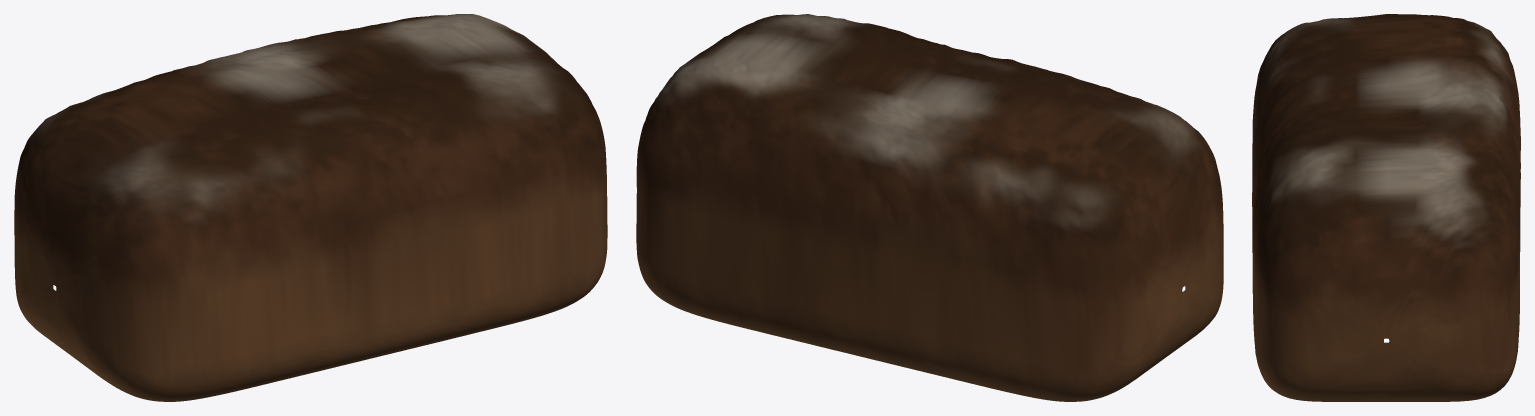
Rendered from schwabenkorn-1000g.glb.
3 views of the same model, side by side, from view 1: azimuth 30°, elevation 25°; view 2: azimuth 150°, elevation 25°; view 3: azimuth 270°, elevation 25° (orthographic). The views are drawn at different scales.
Parts seen in each view (by area): view 1: schwabenkorn-1000g; view 2: schwabenkorn-1000g; view 3: schwabenkorn-1000g.
Boxes of the visible parts, bbox=[...] form: schwabenkorn-1000g: bbox=[14, 14, 607, 401]; schwabenkorn-1000g: bbox=[636, 14, 1223, 401]; schwabenkorn-1000g: bbox=[1252, 14, 1520, 401].
Size of the model in its own units: 0.252 by 0.1134 by 0.126.
